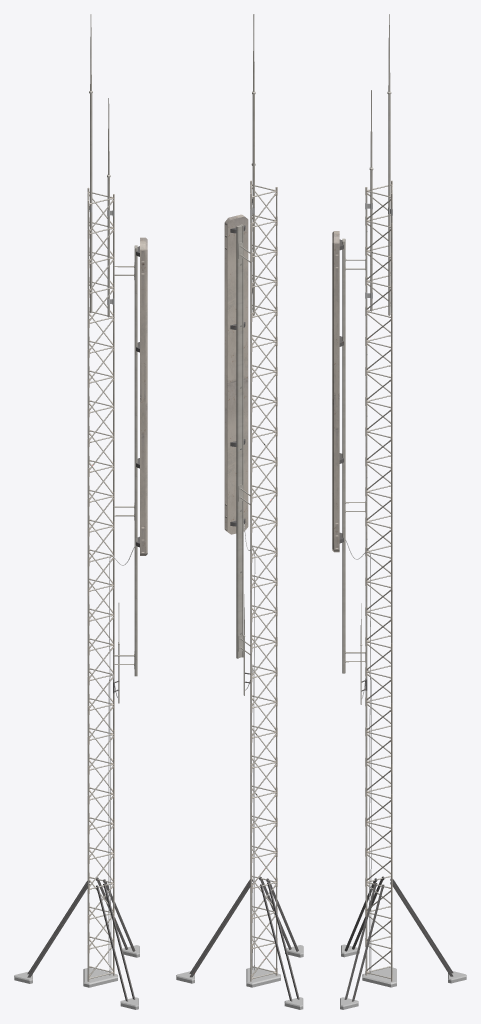
The model's file is KB3D_CBP_Antenna_U.fbx.
The picture shows the model from 3 angles, left to right: view 1: azimuth 90°, elevation 25°; view 2: azimuth 210°, elevation 25°; view 3: azimuth 270°, elevation 25°; orthographic projection.
Visible parts, largest first — view 1: KB3D_CBP_Antenna_U_Main; view 2: KB3D_CBP_Antenna_U_Main; view 3: KB3D_CBP_Antenna_U_Main.
Part boxes in pixels (x1,y1,x2,y2): KB3D_CBP_Antenna_U_Main: [14, 14, 147, 1009]; KB3D_CBP_Antenna_U_Main: [176, 14, 303, 1009]; KB3D_CBP_Antenna_U_Main: [332, 14, 466, 1009].
Size of the model in its own units: 646 by 4727 by 593.
